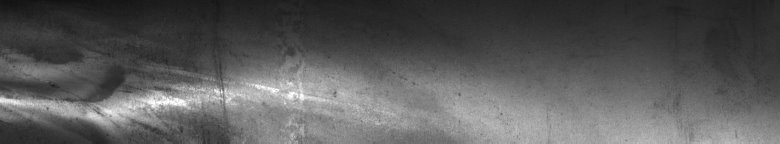ke: (4, 52, 336, 136)
